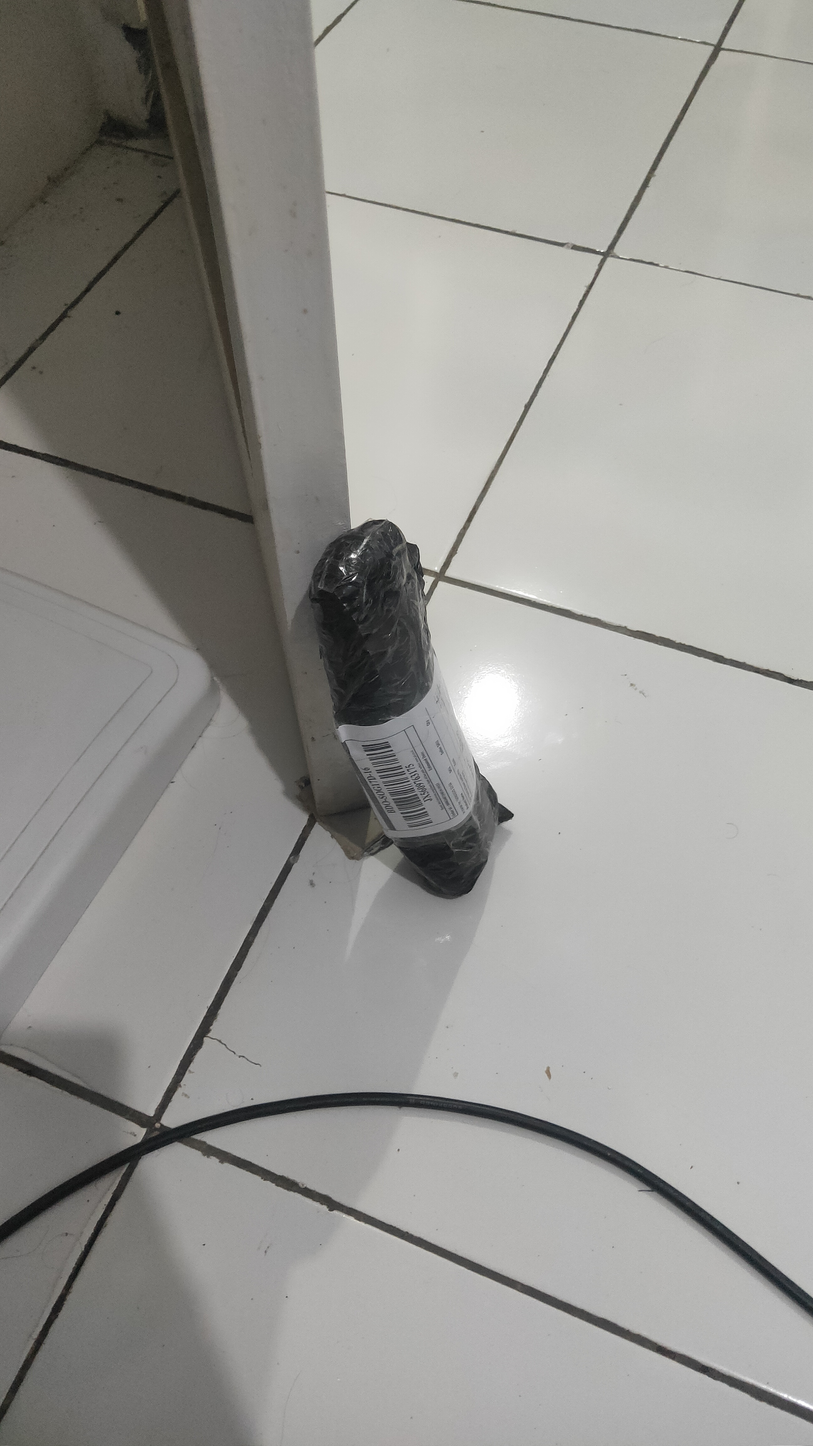undamaged: (303, 519, 512, 902)
